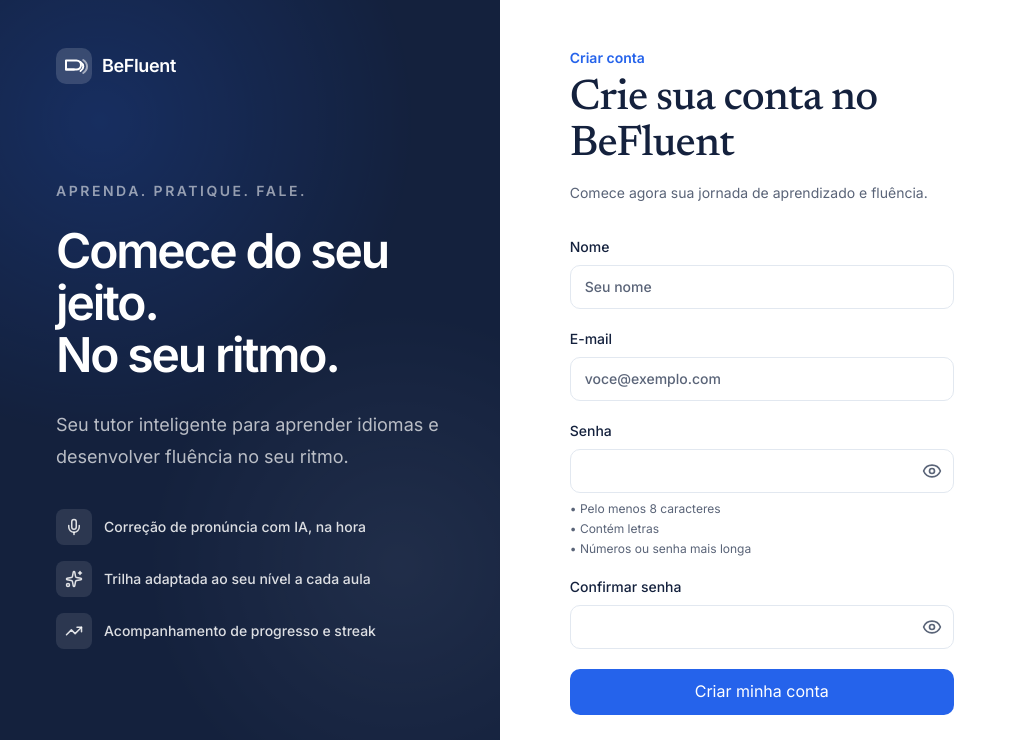
Test: RegisterPage › envia payload correto e redireciona após sucesso
Type "Maria" into the field labelled "Nome" at x=762, y=287, box [570,265,954,309]
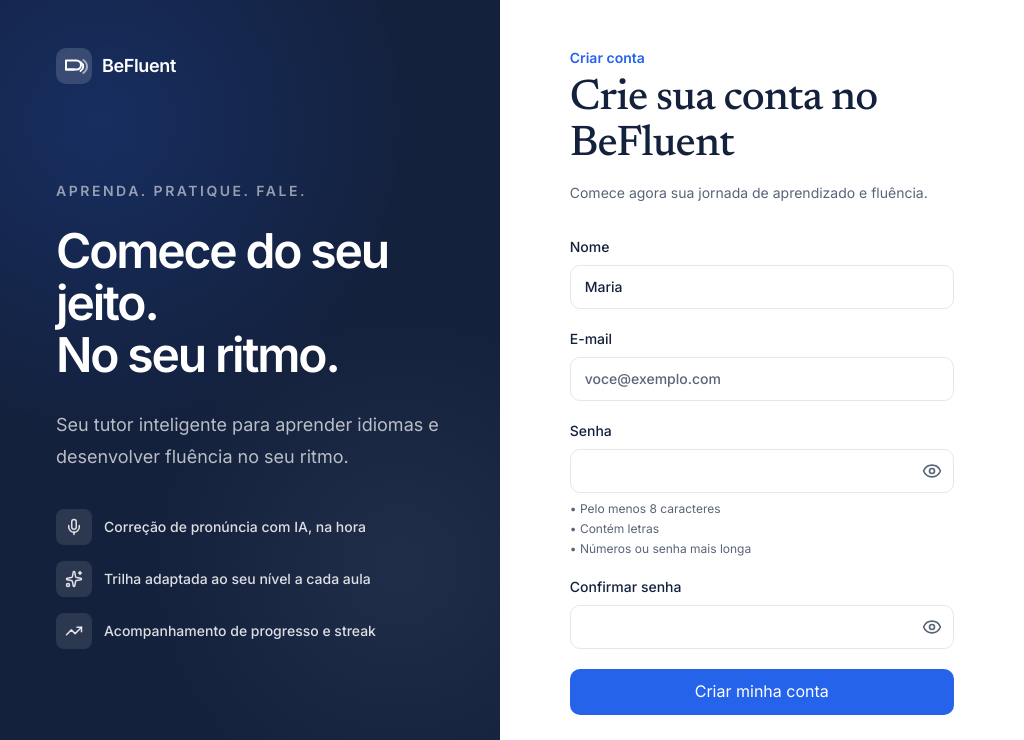
Type "maria@exemplo.com" into the field labelled "E-mail" at x=762, y=379, box [570,357,954,401]
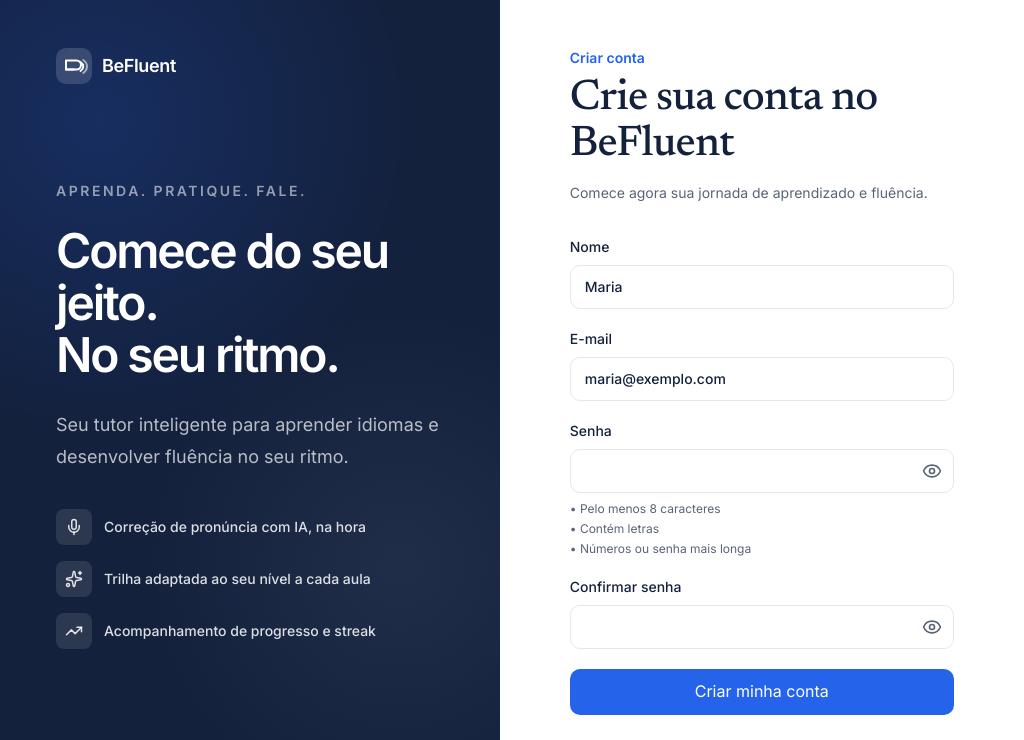
Type "senha-forte-1" into the password field labelled "Senha" at x=762, y=471, box [570,449,954,493]
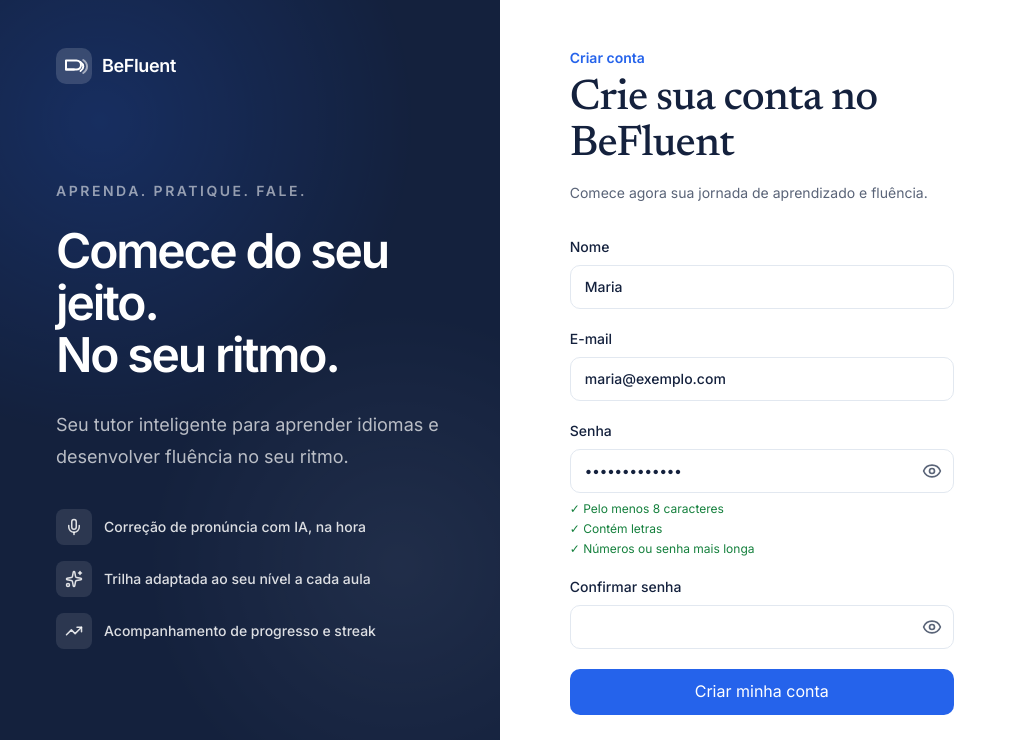
Type "senha-forte-1" into the password field labelled "Confirmar senha" at x=762, y=627, box [570,605,954,649]
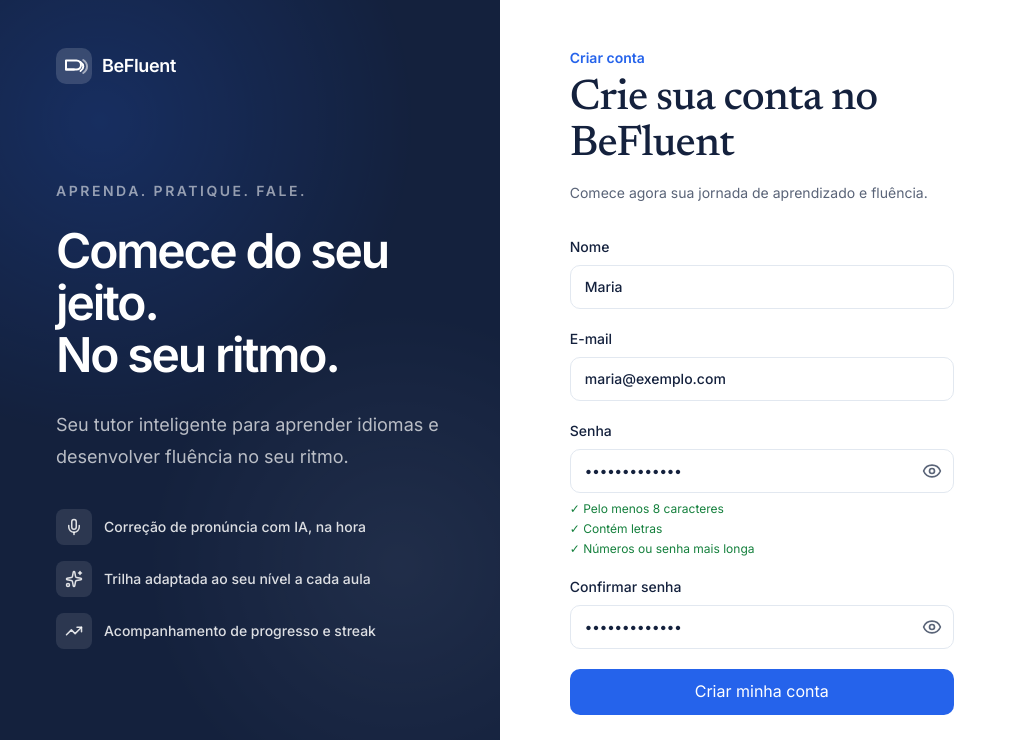
Click the button "Criar minha conta" at x=762, y=692, box [570,669,954,714]
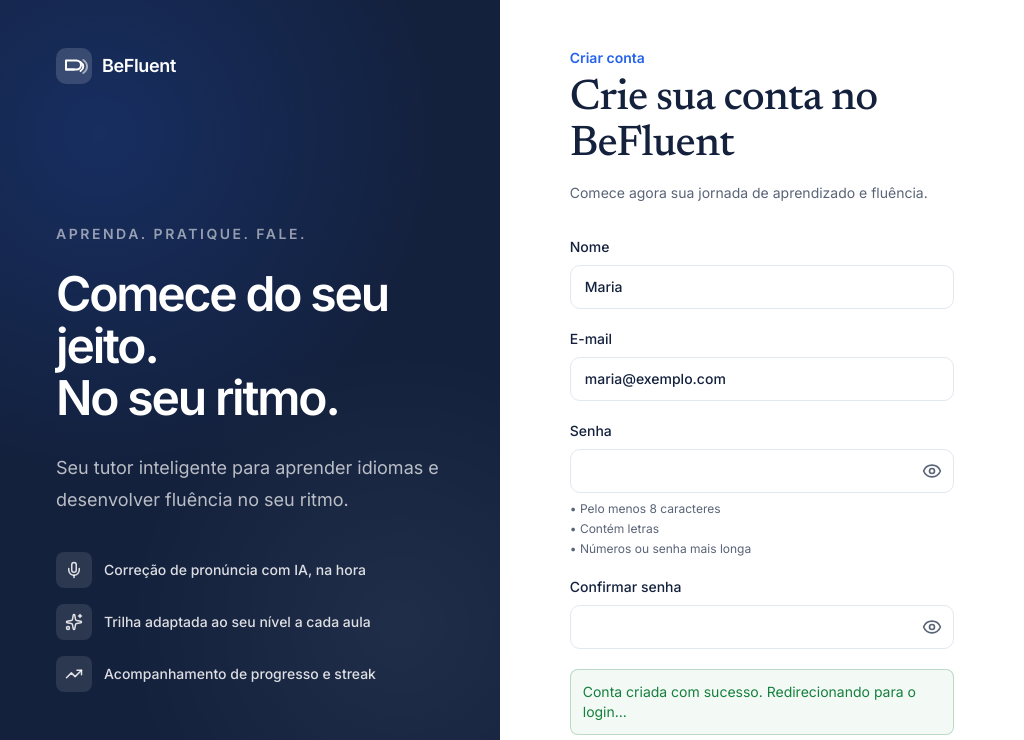
Now the message reads "Conta criada com sucesso. Redirecionando para o login...", box [583,683,916,720]
